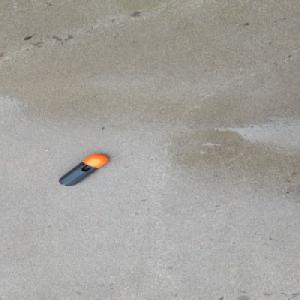PlasticPart: (57, 153, 109, 186)
